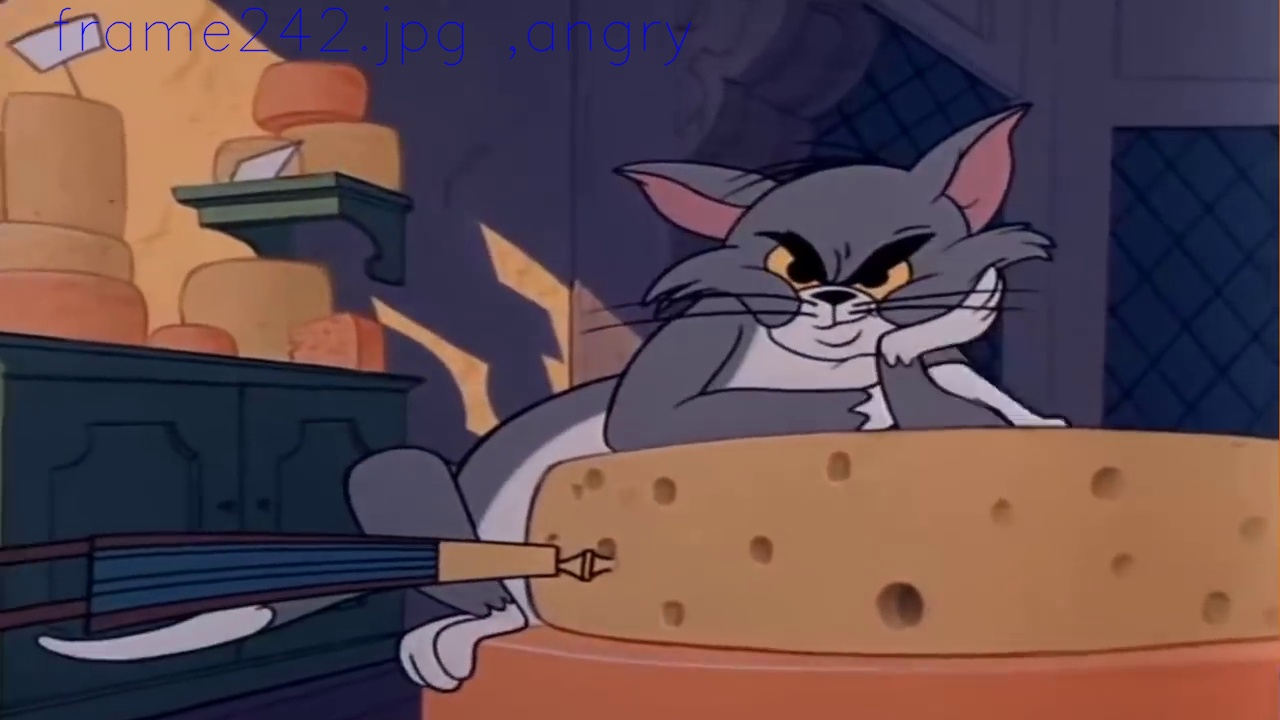angry: (759, 227, 938, 351)
